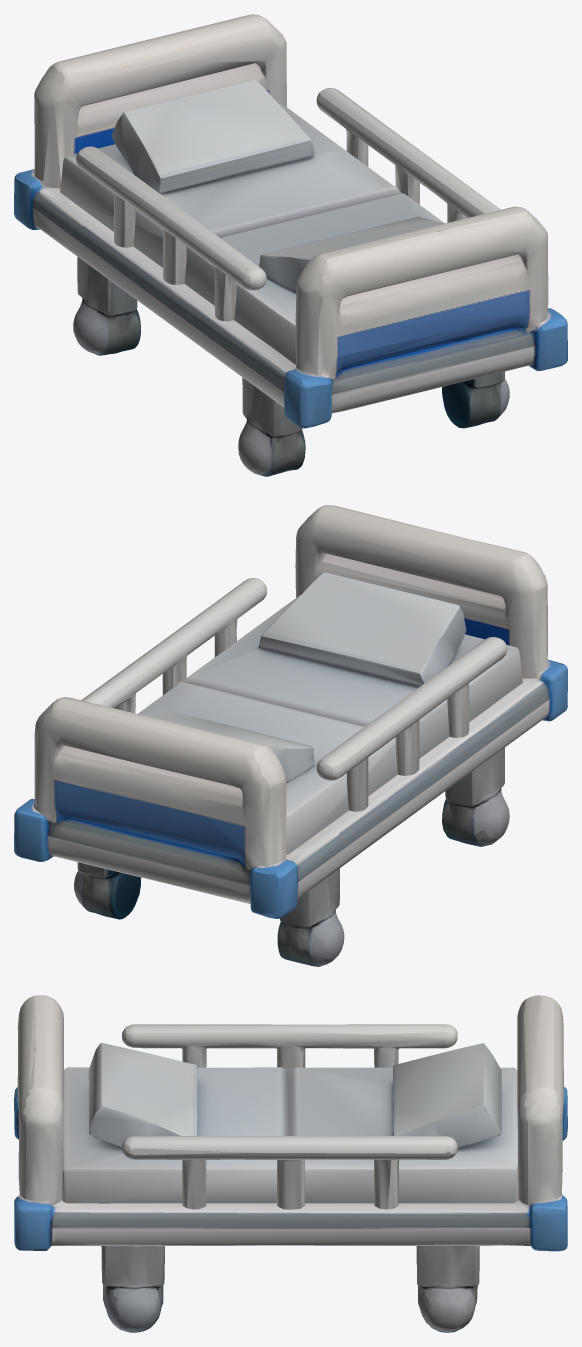
Rendered from Prop_HospitalBed_AI.glb.
3 renders of one model, top to bottom at view 1: azimuth 30°, elevation 25°; view 2: azimuth 150°, elevation 25°; view 3: azimuth 270°, elevation 25°, orthographic. The views are drawn at different scales.
Visible parts, largest first — view 1: Prop_HospitalBed_AI; view 2: Prop_HospitalBed_AI; view 3: Prop_HospitalBed_AI.
Part boxes in pixels (x1,y1,x2,y2): Prop_HospitalBed_AI: (14,14,567,476); Prop_HospitalBed_AI: (14,505,567,966); Prop_HospitalBed_AI: (14,995,567,1332).
Size of the model in its own units: 1.13 by 1 by 2.11.
Materials: 3 (3 with a texture image).
